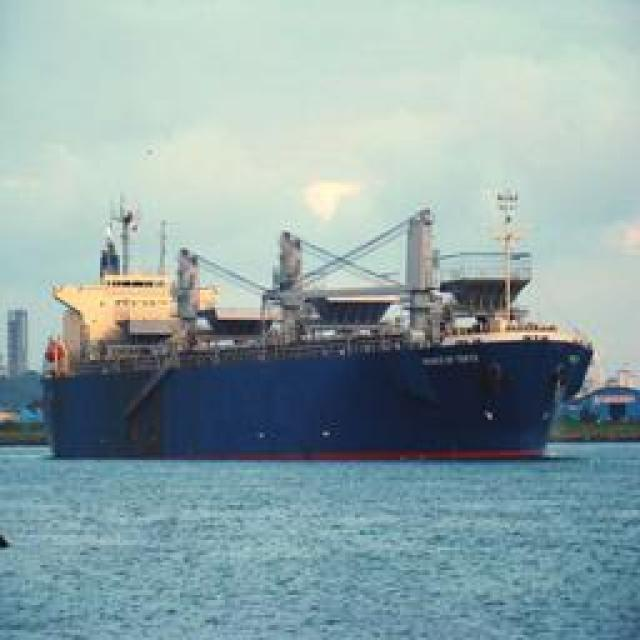ship2: (39, 188, 594, 462)
